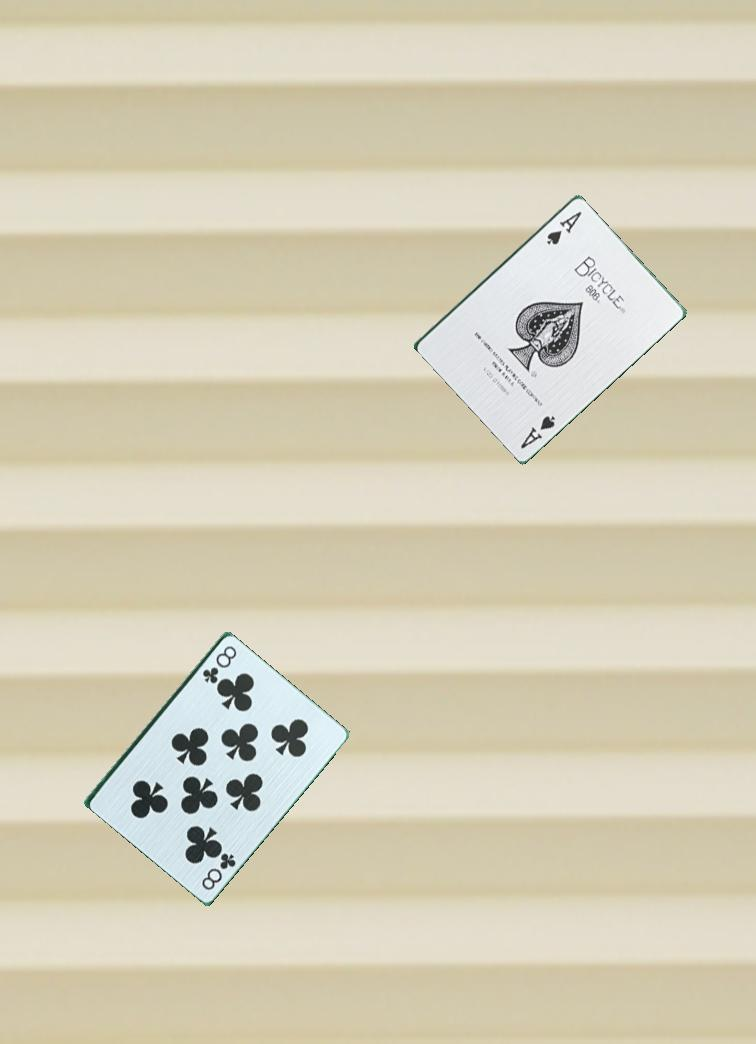8c: (198, 848, 239, 893), (198, 642, 239, 685)
as: (543, 207, 585, 247), (517, 412, 559, 451)
